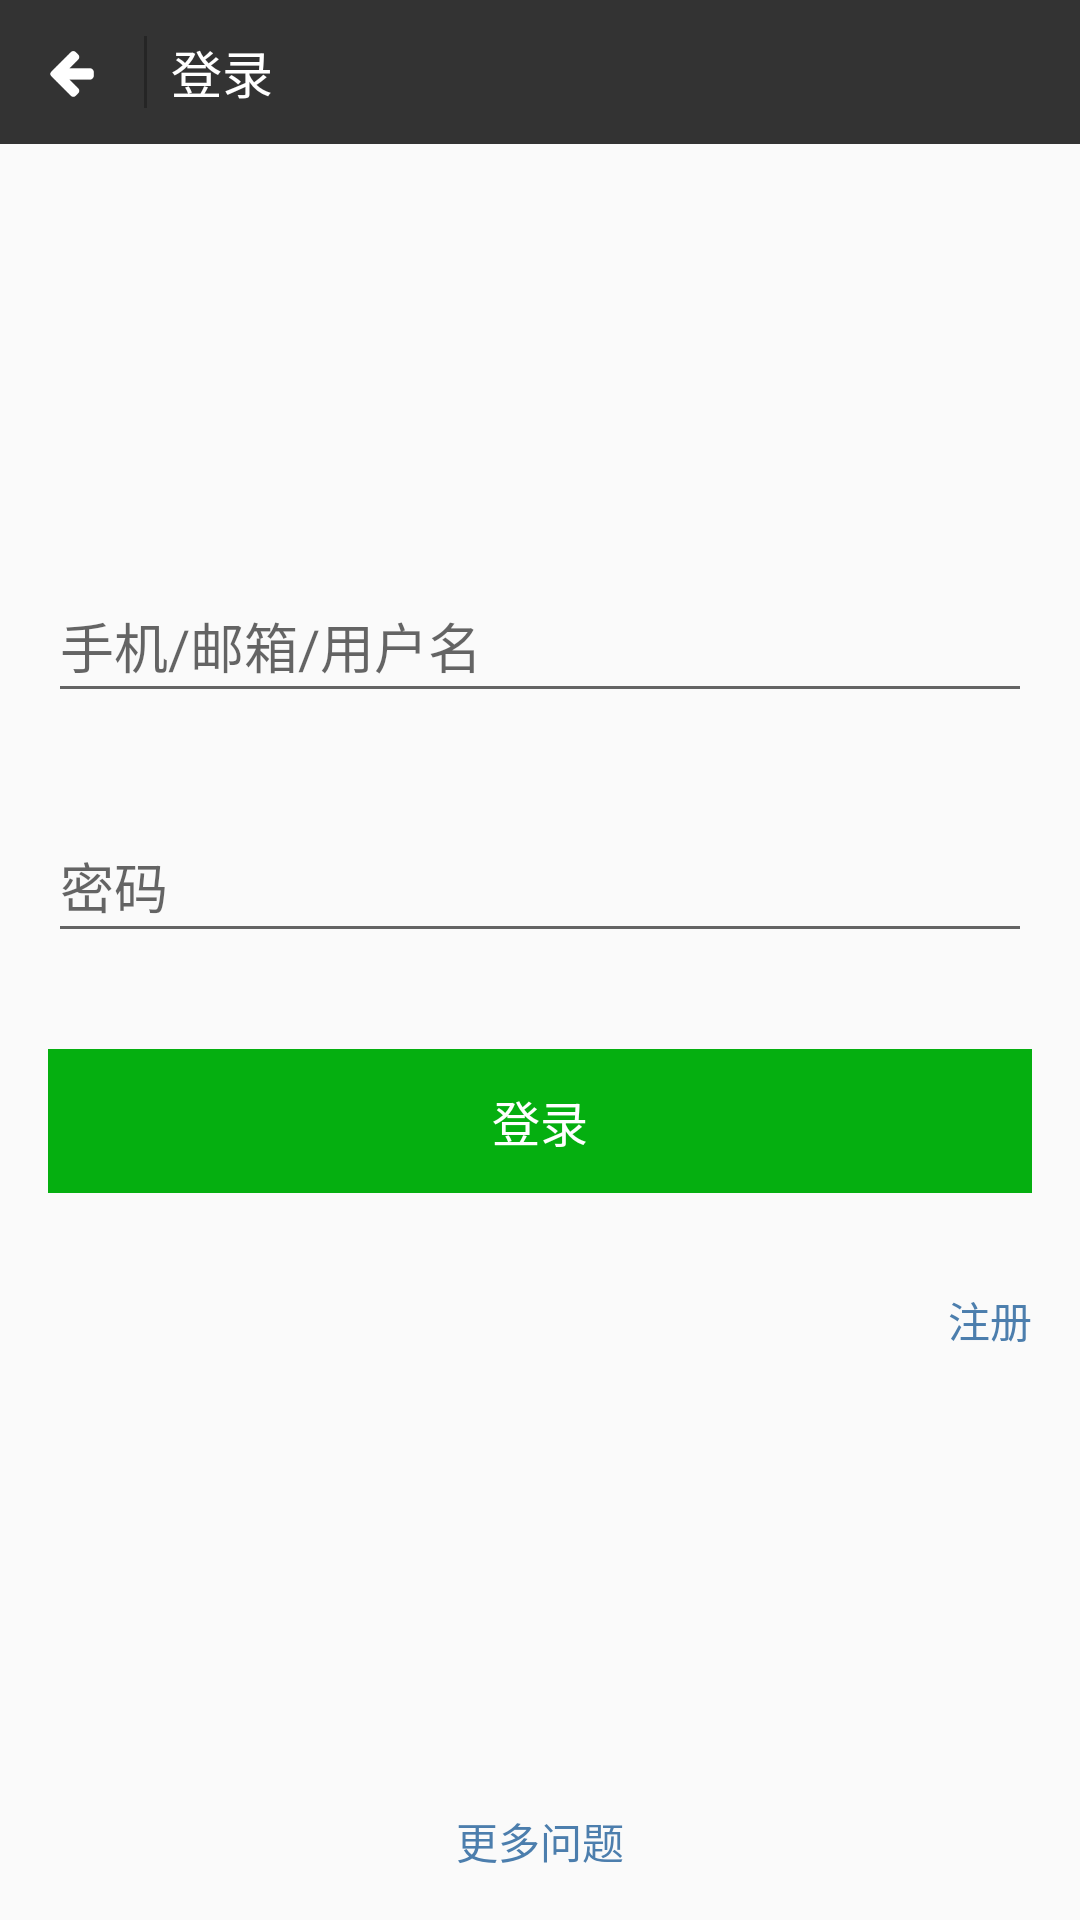

Icon click points for this 1080px×1920px phone screenshot, format [x,y]:
back: [72,74]
